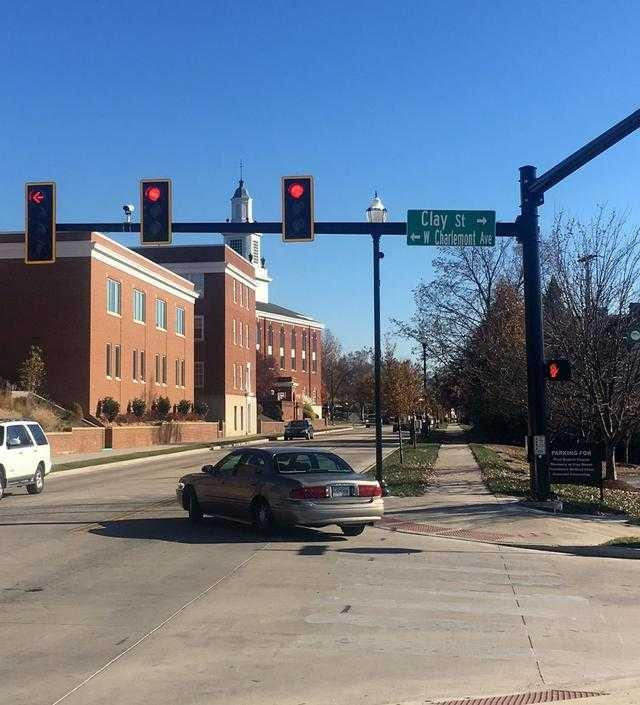red: (278, 166, 319, 250), (21, 177, 58, 268), (137, 163, 176, 249), (140, 171, 169, 206), (23, 180, 56, 208), (280, 175, 314, 199), (544, 356, 569, 387)
